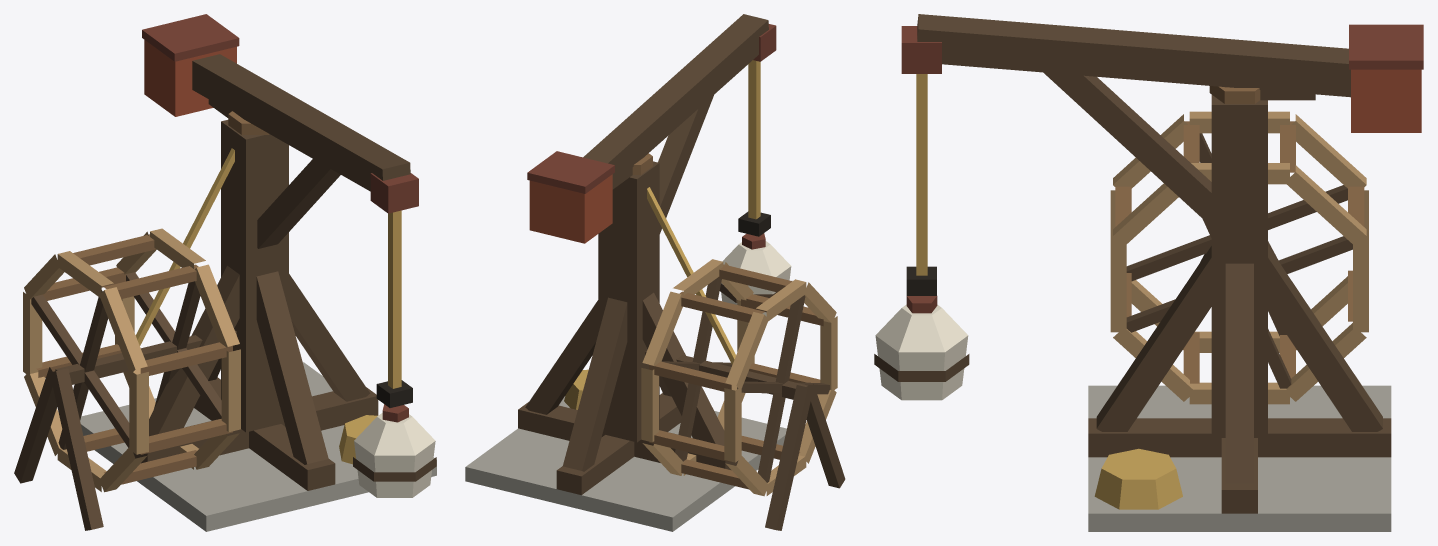
Rendered from crane.glb.
3 views of the same model, side by side, from view 1: azimuth 30°, elevation 25°; view 2: azimuth 150°, elevation 25°; view 3: azimuth 270°, elevation 25° (orthographic). The views are drawn at different scales.
Visible parts, largest first — view 1: Base, Jib; view 2: Base, Jib; view 3: Base, Jib.
Part boxes in pixels (<box>): Base: <box>14,111,436,531</box>; Jib: <box>142,14,436,497</box>; Base: <box>465,153,845,531</box>; Jib: <box>527,14,791,316</box>; Base: <box>1088,86,1391,531</box>; Jib: <box>874,14,1423,400</box>.
Bounding box in the file's own units: 4.13 × 4.91 × 5.44.
Materials: 1 (1 with a texture image).
